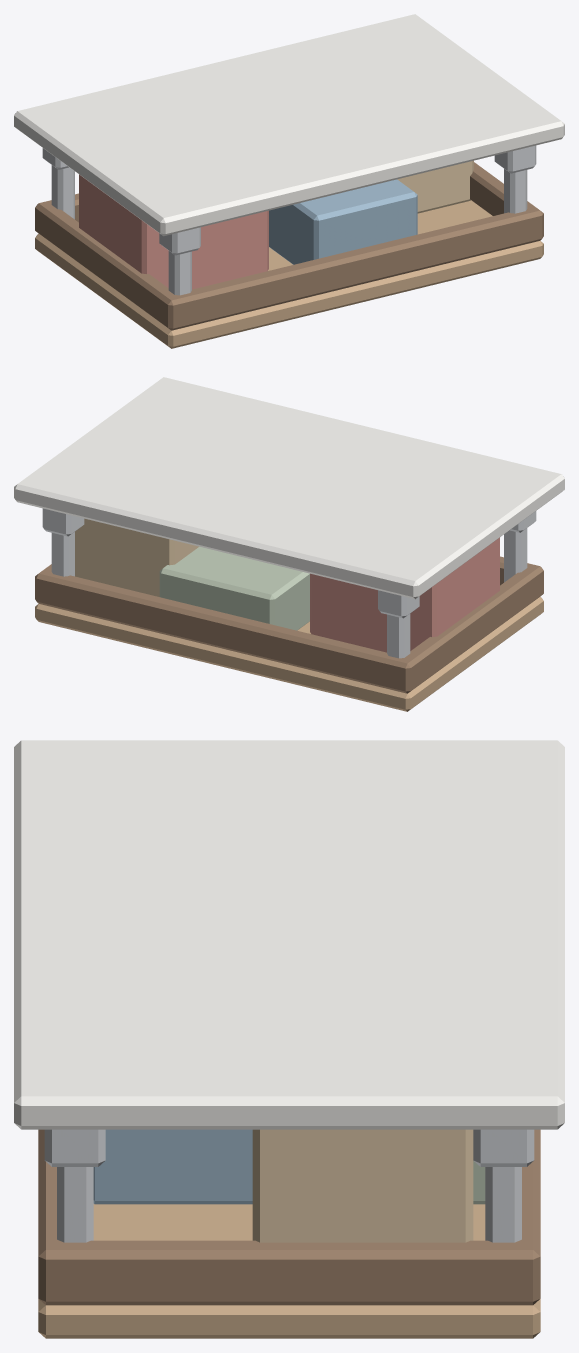
File: CeilingLiftStorage.glb
3 renders of one model, top to bottom at view 1: azimuth 30°, elevation 25°; view 2: azimuth 150°, elevation 25°; view 3: azimuth 270°, elevation 25°, orthographic. The views are drawn at different scales.
Visible parts, largest first — view 1: CeilingLiftStorage_Plate, CeilingLiftStorage_Platform; view 2: CeilingLiftStorage_Plate, CeilingLiftStorage_Platform; view 3: CeilingLiftStorage_Plate, CeilingLiftStorage_Platform.
Boxes of the visible parts, box(x1,y1,x2,y2) form: CeilingLiftStorage_Plate: box(14, 14, 564, 255); CeilingLiftStorage_Platform: box(35, 160, 543, 348); CeilingLiftStorage_Plate: box(14, 377, 564, 618); CeilingLiftStorage_Platform: box(35, 518, 543, 711); CeilingLiftStorage_Plate: box(14, 740, 564, 1166); CeilingLiftStorage_Platform: box(38, 1129, 540, 1338).
Bounding box in the file's own units: 1.4 × 0.46 × 0.9.
